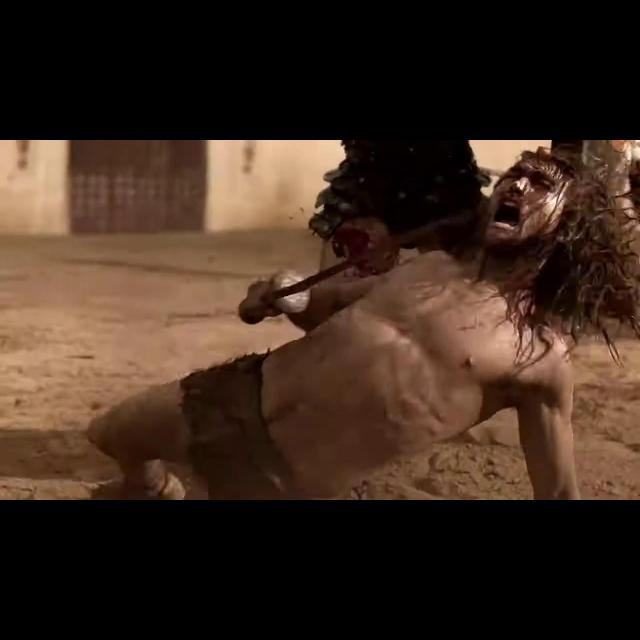blood: (310, 186, 400, 276)
